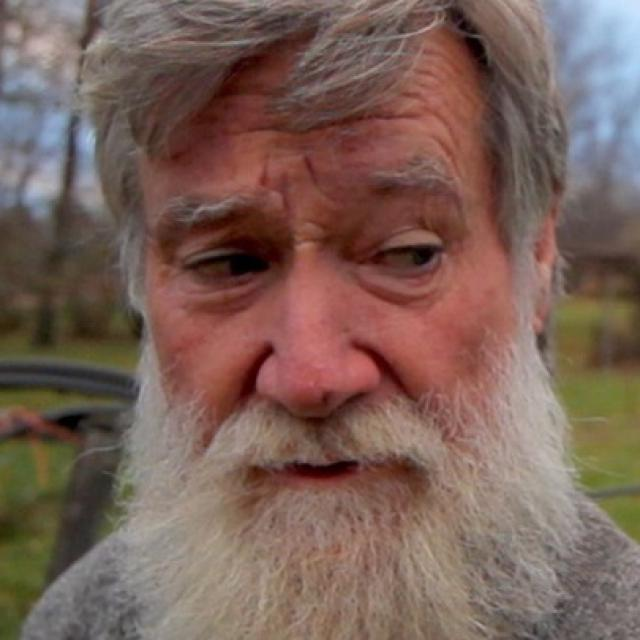Depress: (142, 17, 523, 596)
